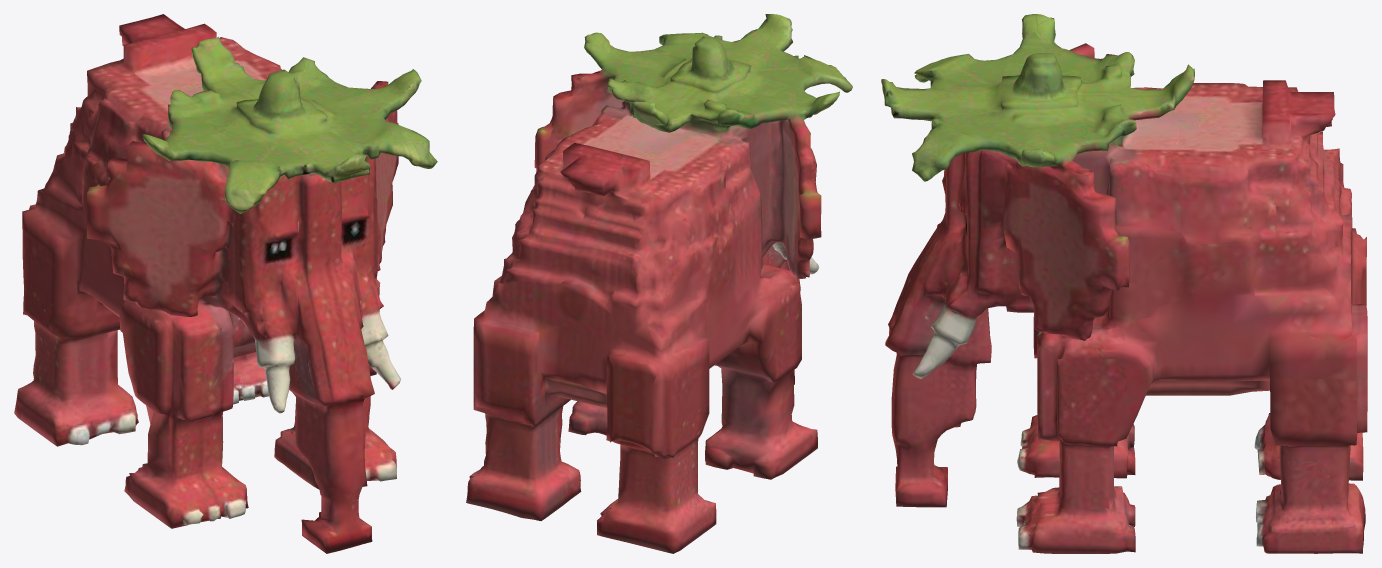
Rendered from strawberry.glb.
3 renders of one model, left to right at view 1: azimuth 30°, elevation 25°; view 2: azimuth 150°, elevation 25°; view 3: azimuth 270°, elevation 25°, orthographic. The views are drawn at different scales.
Bounding box in the file's own units: 1.54 × 1.99 × 1.99.
Materials: 1 (1 with a texture image).
